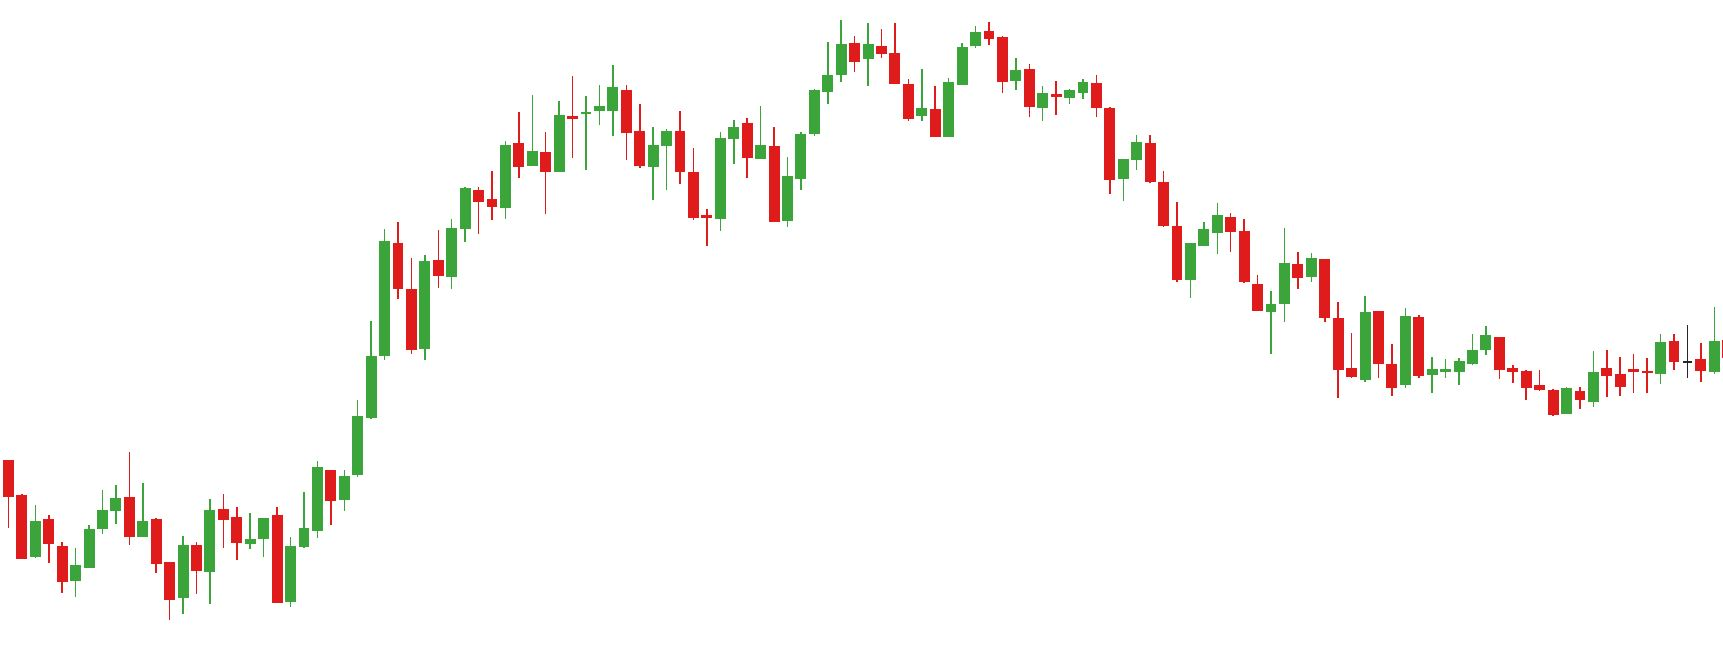buy: (55, 501, 192, 628)
sell: (876, 18, 1011, 109)
